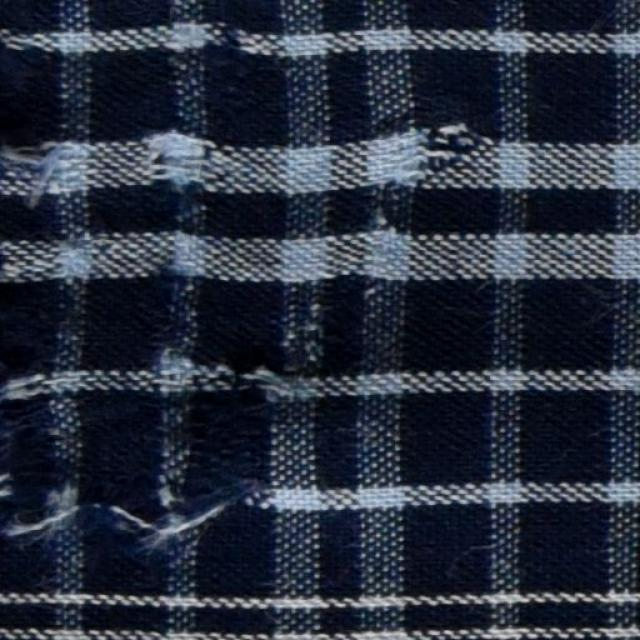Snag: (112, 469, 244, 551), (394, 97, 489, 179), (3, 128, 83, 216), (145, 117, 227, 195), (7, 480, 82, 557)
